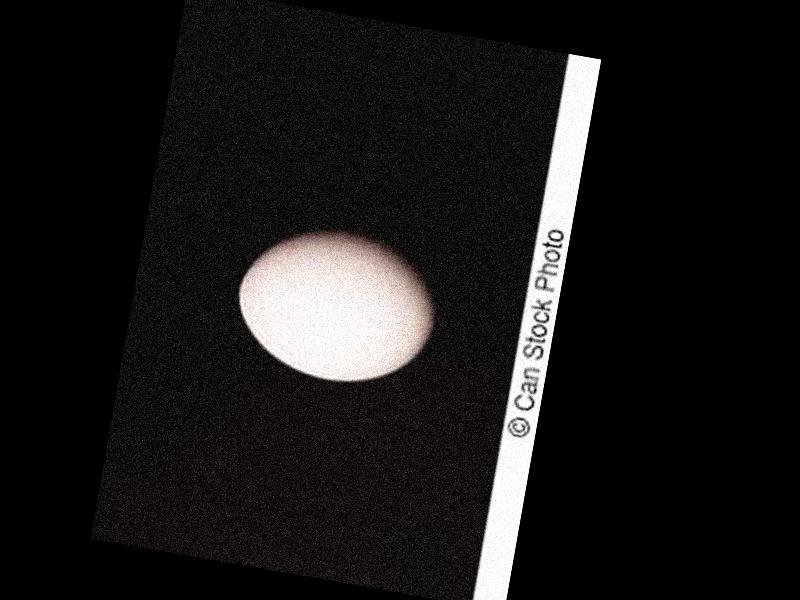Eggs: (227, 217, 449, 396)
